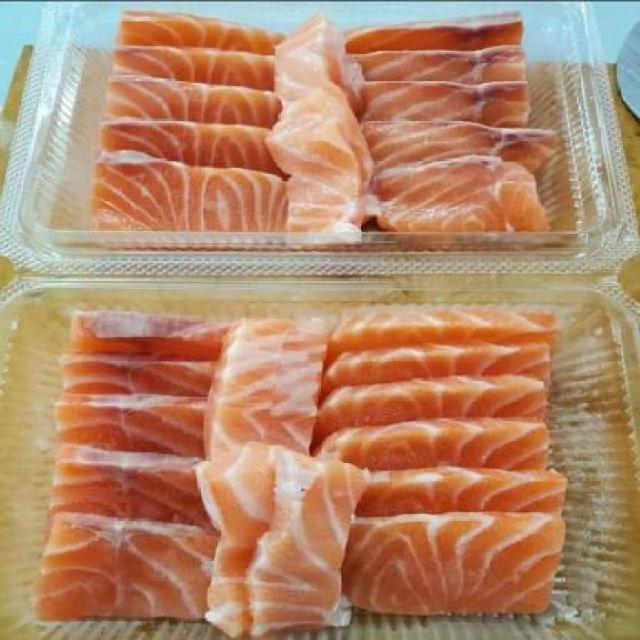salmon: (46, 291, 592, 635), (57, 2, 578, 250)
